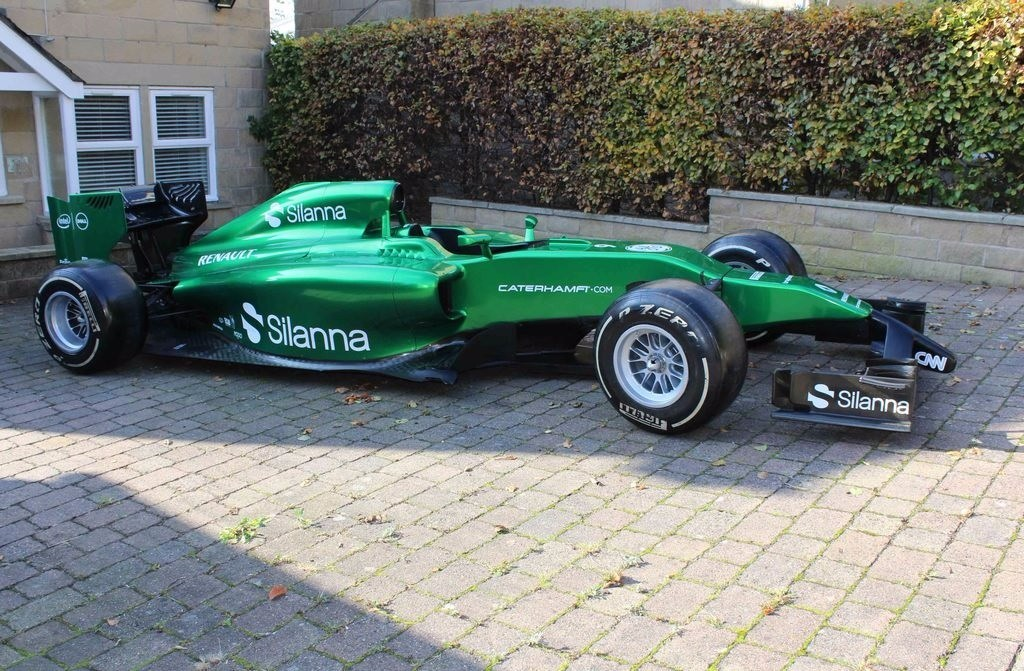f1_car: (23, 160, 968, 462)
